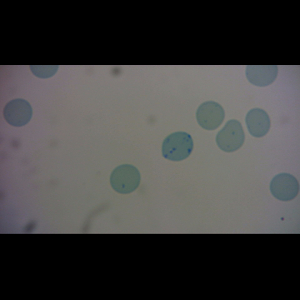erythrocyte: (268, 172, 300, 203), (2, 98, 33, 128), (244, 107, 271, 139)
punctate reticulocyte: (214, 118, 247, 154), (161, 131, 194, 162), (109, 164, 142, 194), (195, 100, 225, 131)
